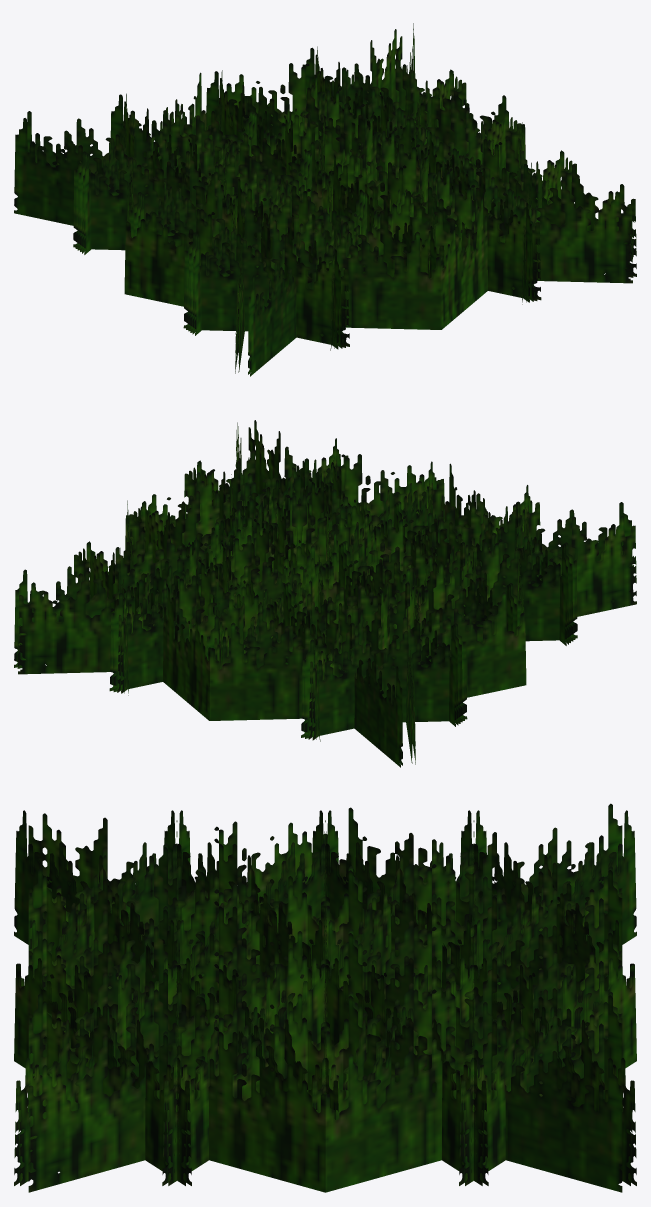
File: courtyard_grass_patch.glb
The picture shows the model from 3 angles, top to bottom: view 1: azimuth 30°, elevation 25°; view 2: azimuth 150°, elevation 25°; view 3: azimuth 270°, elevation 25°; orthographic projection. The views are drawn at different scales.
Visible parts, largest first — view 1: grass_patch; view 2: grass_patch; view 3: grass_patch.
Part boxes in pixels (box(x1,y1,x2,y2)): grass_patch: box(14, 23, 636, 376); grass_patch: box(14, 420, 636, 767); grass_patch: box(14, 803, 636, 1192).
Size of the model in its own units: 2.1 by 0.5 by 2.1.
1 material, 1 textured.
